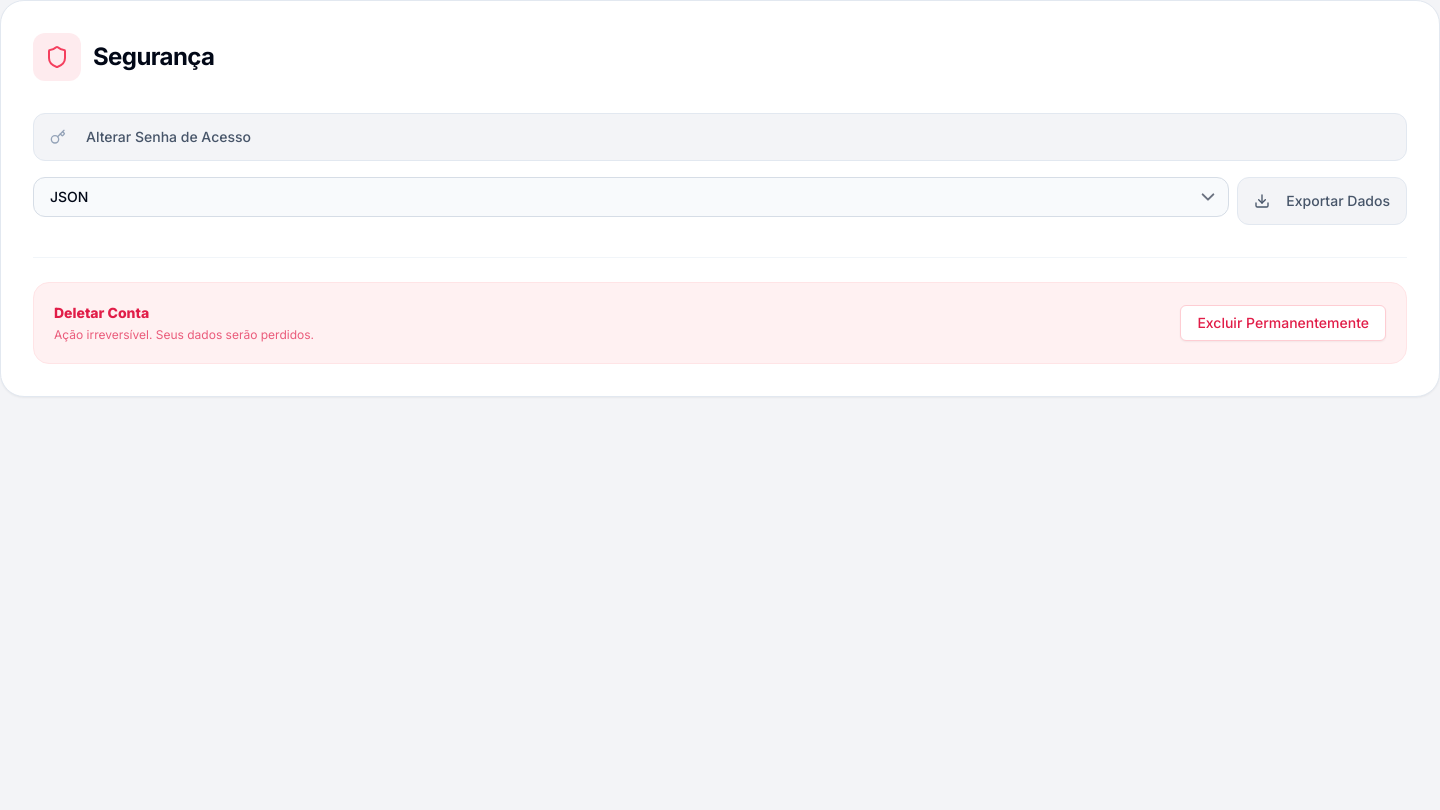
Test case: ProfileSecuritySection — change password dialog › opens change password dialog when button is clicked
Click the button "Alterar Senha de Acesso": (169, 136) [33,113,1407,161]
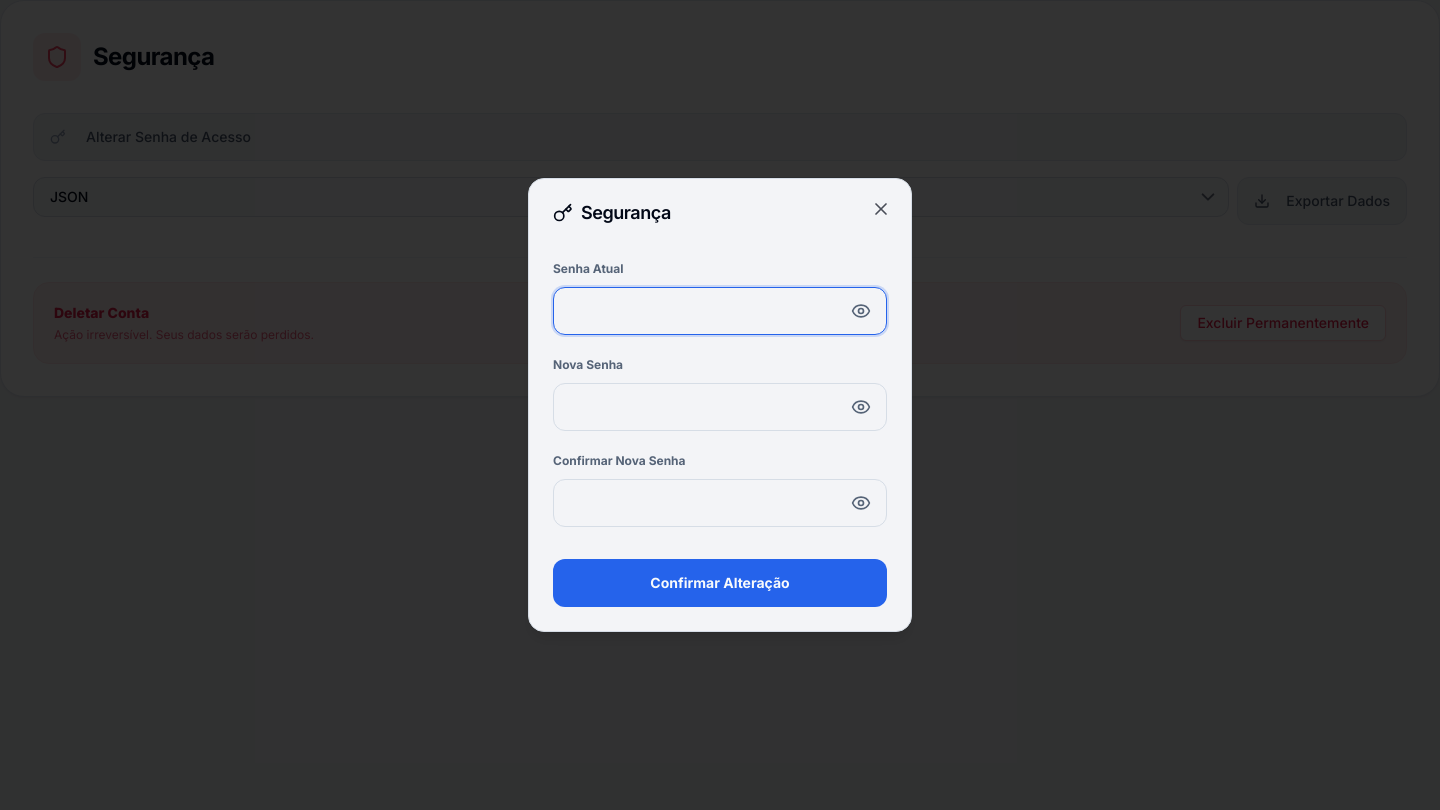
Expected: the dialog is shown, [528,178,912,632]
